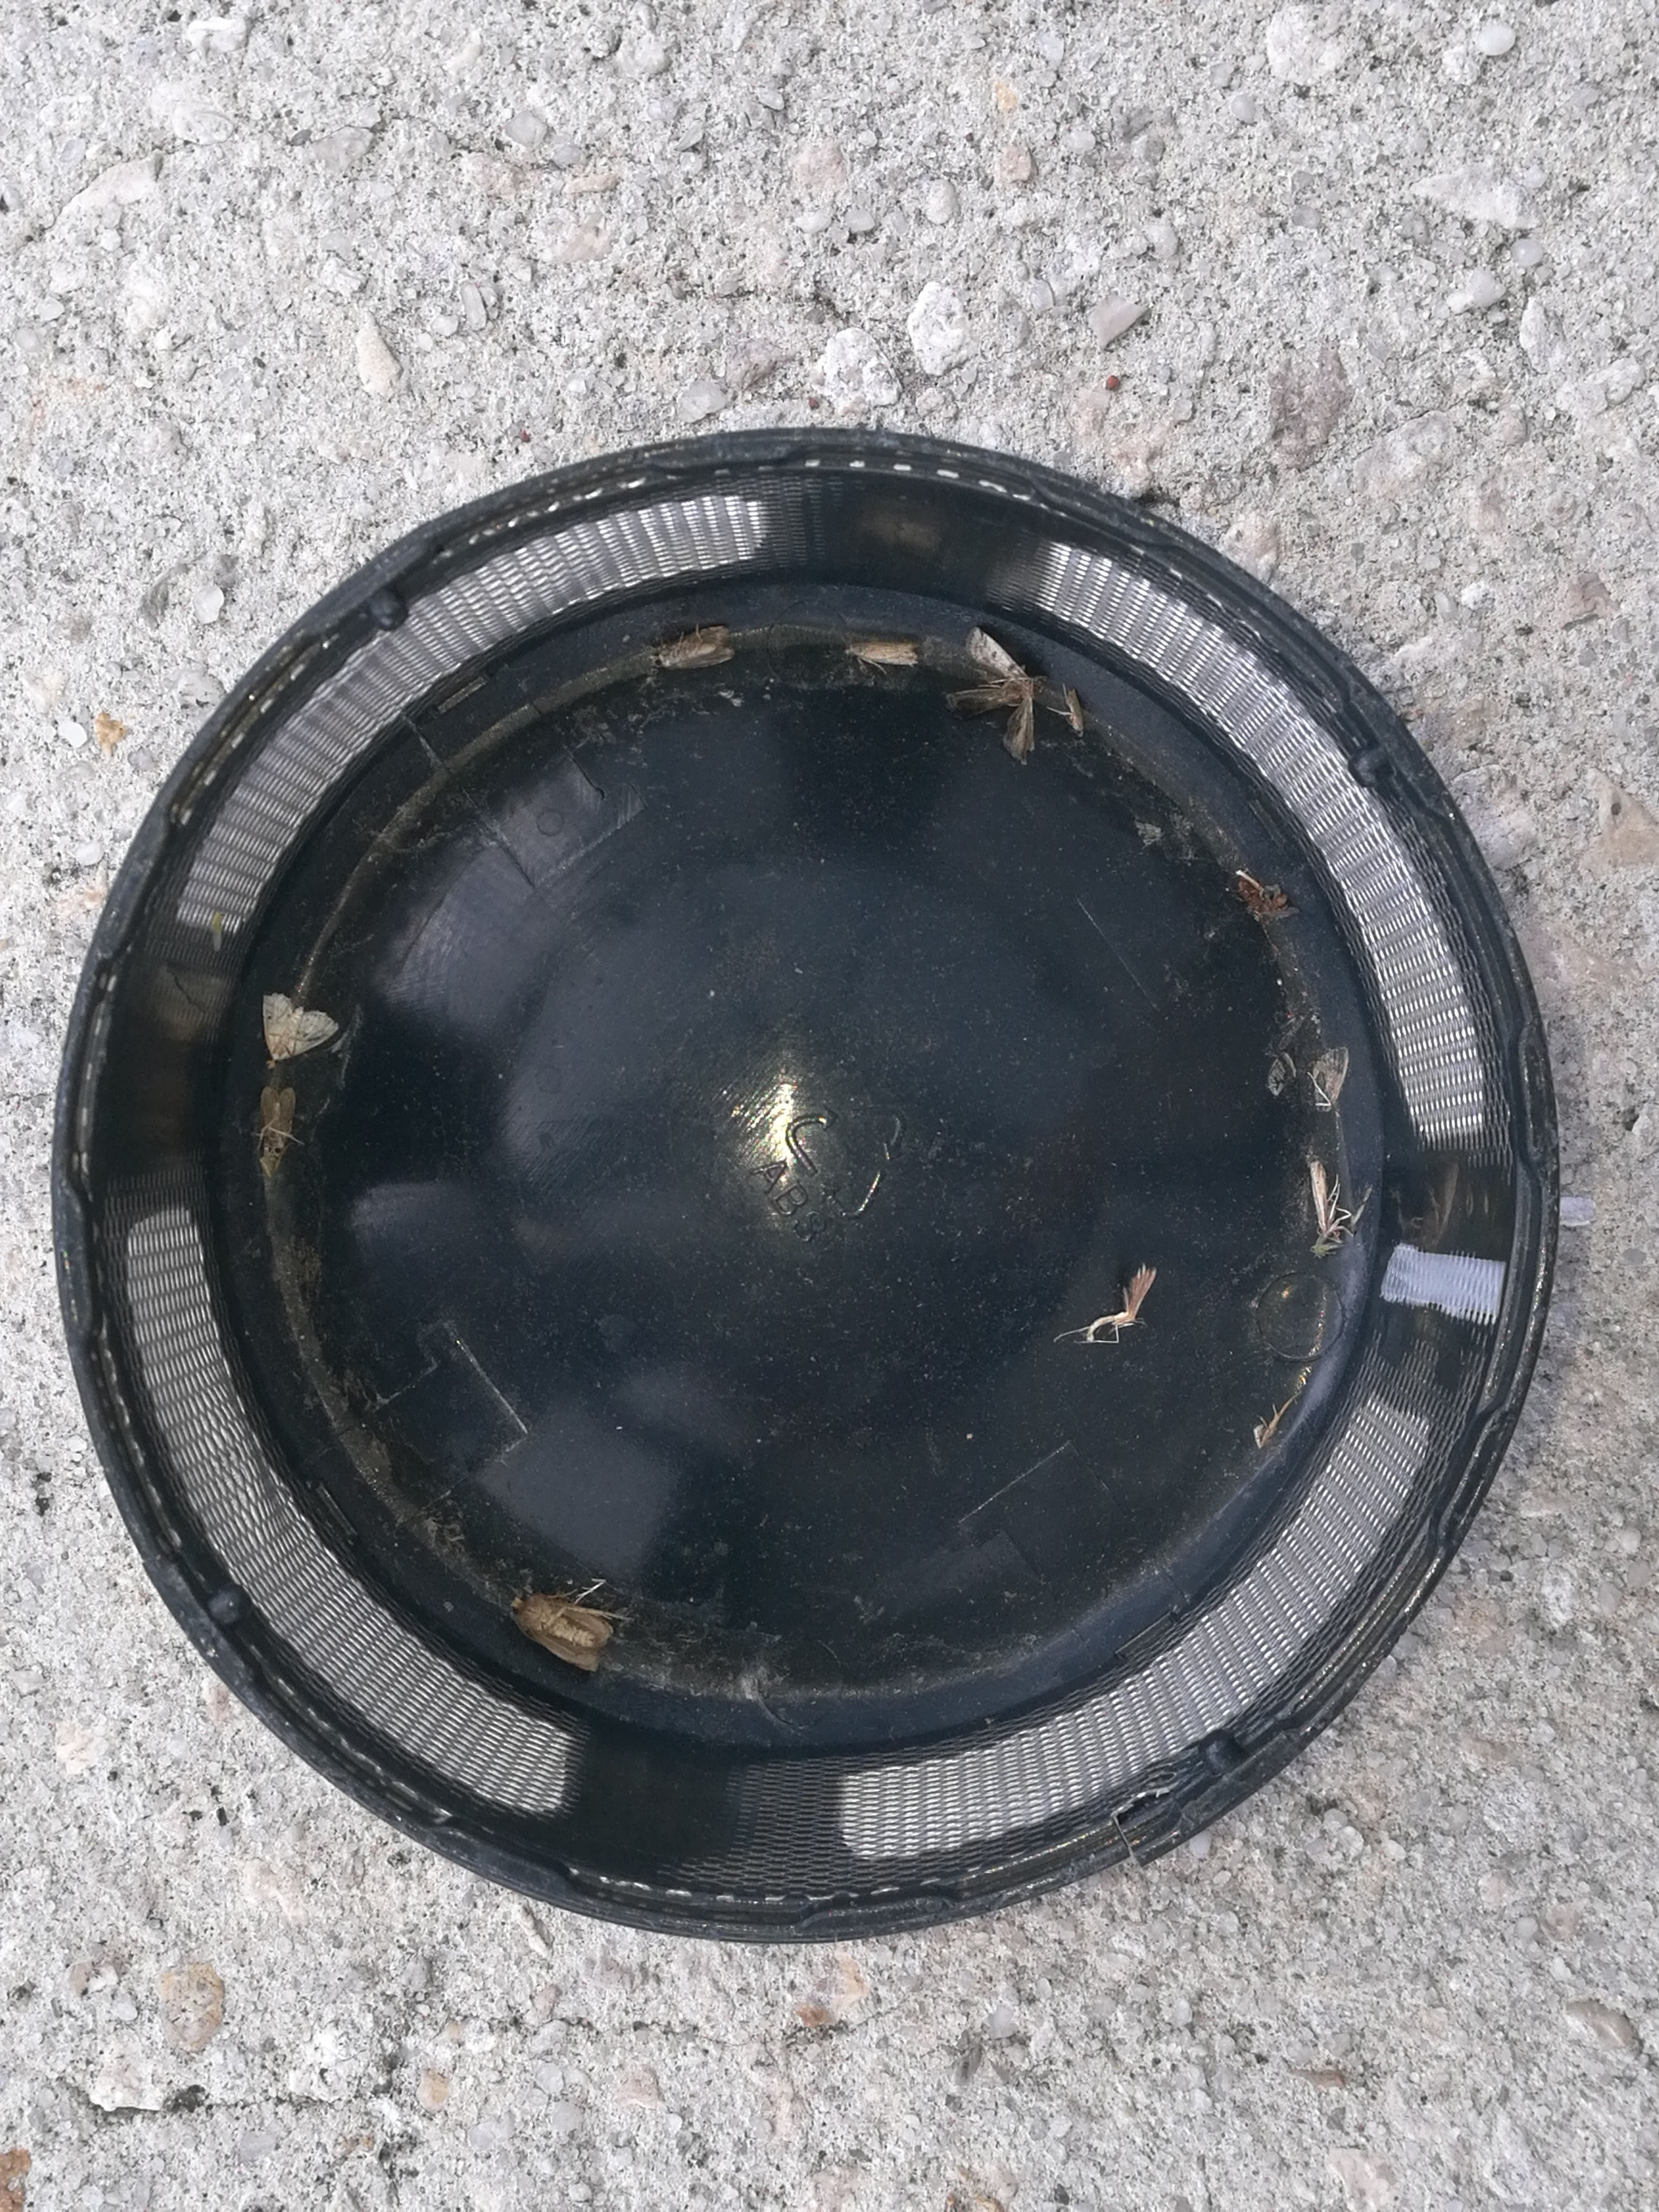mosquito: (850, 641, 918, 671), (1312, 1160, 1340, 1231), (1051, 688, 1084, 737)
moth: (948, 629, 1037, 763), (511, 1594, 615, 1670), (260, 995, 338, 1064), (258, 1087, 295, 1176), (653, 629, 732, 669)
